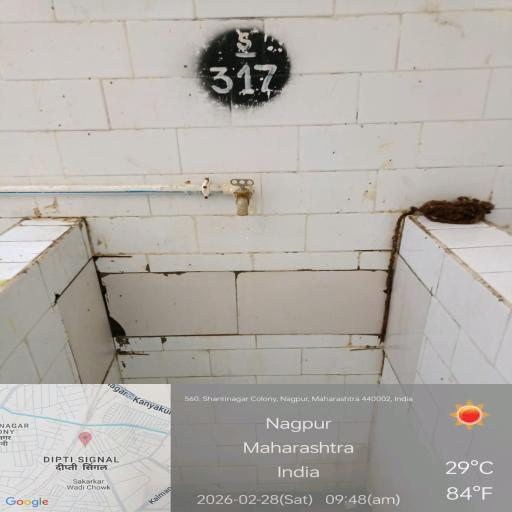clean_floor: (23, 24, 482, 487)
